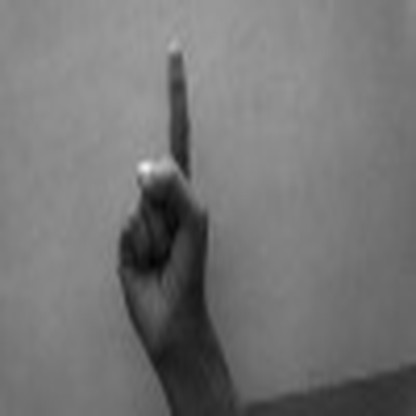d: (108, 35, 223, 355)
